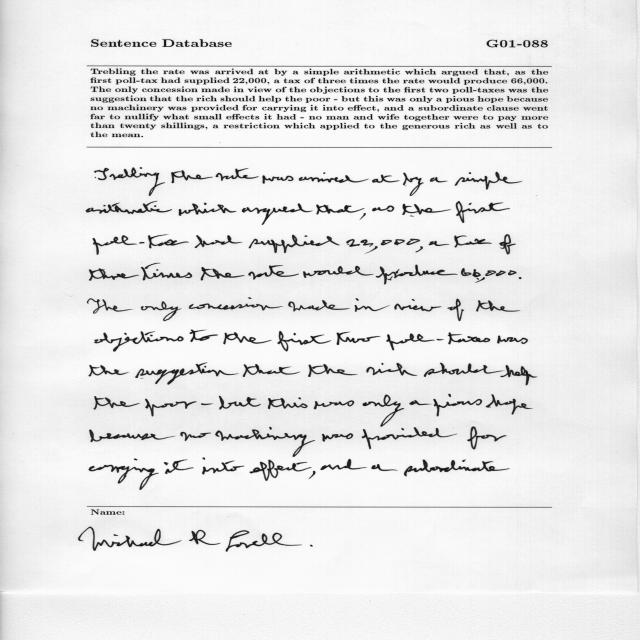word: (215, 427, 315, 457), (135, 363, 239, 385), (89, 458, 159, 490), (362, 428, 458, 450), (93, 234, 189, 255), (95, 168, 165, 196), (386, 333, 491, 351), (404, 460, 510, 477), (95, 332, 184, 352), (376, 265, 458, 285), (249, 235, 340, 253), (242, 203, 313, 225), (363, 394, 404, 427), (250, 460, 312, 481), (189, 298, 283, 311), (455, 172, 522, 190), (456, 201, 510, 223), (433, 394, 482, 417), (424, 363, 504, 377), (86, 201, 172, 214), (347, 239, 421, 254), (277, 331, 331, 351), (90, 430, 175, 442), (486, 394, 533, 415), (141, 263, 192, 281), (468, 427, 507, 450), (145, 399, 197, 416), (303, 266, 373, 278), (461, 268, 517, 283), (140, 301, 182, 321), (299, 172, 369, 183), (248, 265, 299, 280), (179, 203, 237, 216), (288, 300, 350, 312), (243, 364, 300, 377), (501, 365, 538, 385), (87, 298, 133, 314), (202, 458, 244, 475), (366, 363, 418, 376), (89, 268, 139, 281), (308, 364, 358, 377), (94, 396, 140, 410), (402, 204, 451, 217), (195, 235, 242, 248), (223, 333, 272, 345), (219, 396, 261, 410), (201, 267, 245, 280), (337, 332, 381, 345), (395, 299, 442, 311), (216, 168, 259, 181), (171, 170, 213, 183), (476, 300, 521, 312), (320, 459, 367, 470), (354, 298, 390, 312), (316, 205, 365, 215), (403, 173, 424, 196), (268, 398, 308, 410), (454, 236, 492, 248), (164, 459, 194, 474), (89, 365, 129, 376), (448, 299, 465, 321), (314, 401, 354, 410), (189, 330, 218, 342), (499, 235, 516, 255), (263, 175, 294, 184), (180, 432, 211, 441), (322, 433, 353, 442), (372, 174, 400, 183), (497, 336, 528, 344), (371, 464, 398, 471), (372, 205, 394, 212), (409, 401, 432, 406), (429, 241, 450, 246), (430, 177, 447, 183), (309, 471, 316, 479), (415, 247, 423, 253), (360, 213, 366, 220), (201, 403, 213, 405), (519, 277, 522, 279)
